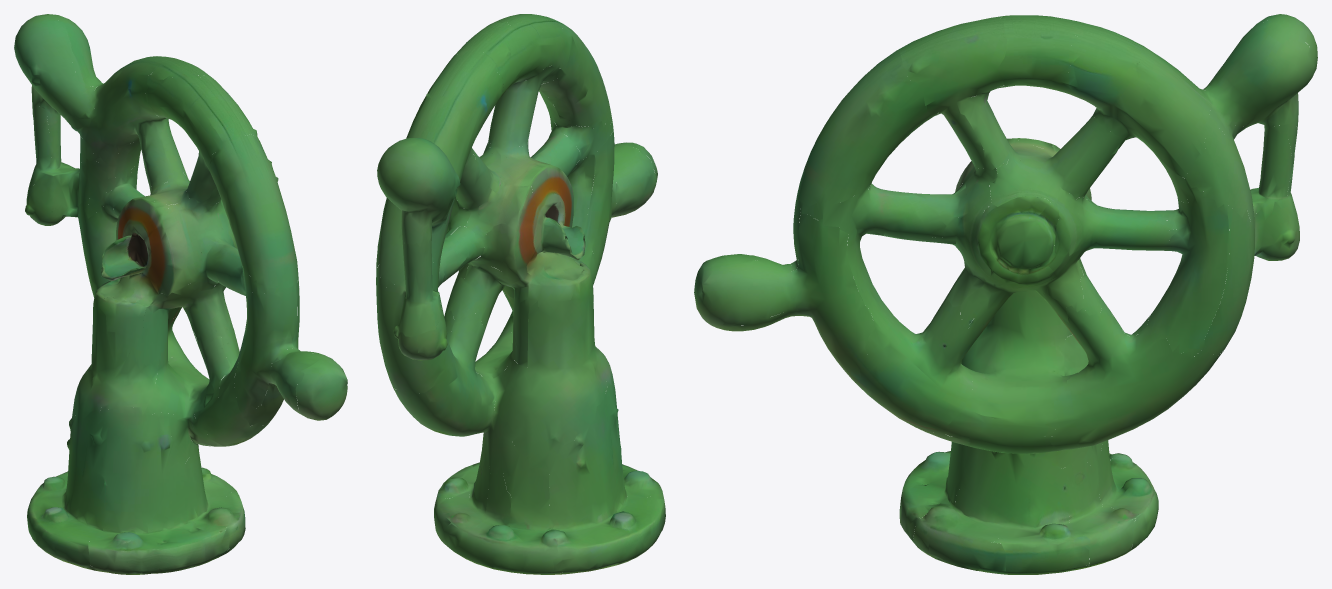
File: prop_coolant_pipe_wheel_01.glb
The picture shows the model from 3 angles, left to right: view 1: azimuth 30°, elevation 25°; view 2: azimuth 150°, elevation 25°; view 3: azimuth 270°, elevation 25°; orthographic projection. The views are drawn at different scales.
Parts seen in each view (by area): view 1: tripo_node_a29b546b-7f46-47f2-b3cc-9777eebc9b60; view 2: tripo_node_a29b546b-7f46-47f2-b3cc-9777eebc9b60; view 3: tripo_node_a29b546b-7f46-47f2-b3cc-9777eebc9b60.
Boxes of the visible parts, x1,y1,x2,y2 form: tripo_node_a29b546b-7f46-47f2-b3cc-9777eebc9b60: [14, 14, 347, 574]; tripo_node_a29b546b-7f46-47f2-b3cc-9777eebc9b60: [376, 14, 665, 574]; tripo_node_a29b546b-7f46-47f2-b3cc-9777eebc9b60: [694, 14, 1317, 574].
Size of the model in its own units: 0.4149 by 0.947 by 1.
Materials: 1 (1 with a texture image).
